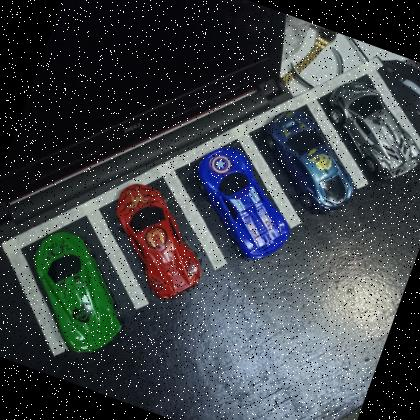Car: (9, 224, 146, 363), (174, 138, 310, 270), (92, 178, 224, 310), (246, 104, 372, 222), (310, 74, 420, 191)
